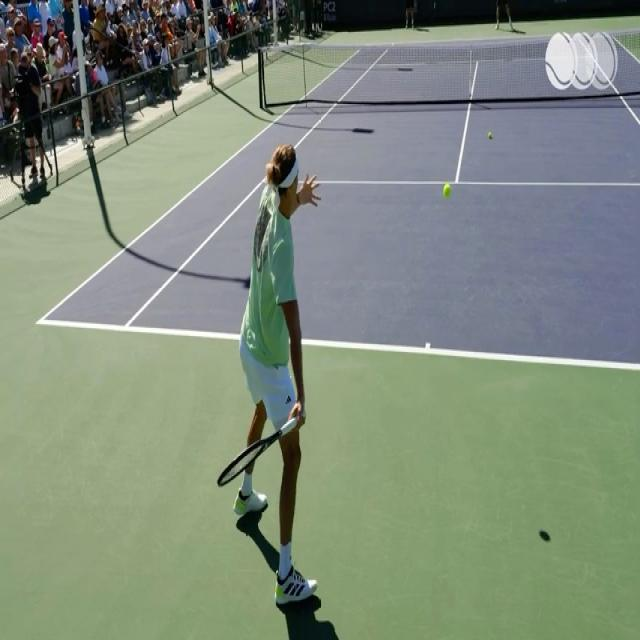forehand-stroke: (213, 143, 354, 613)
